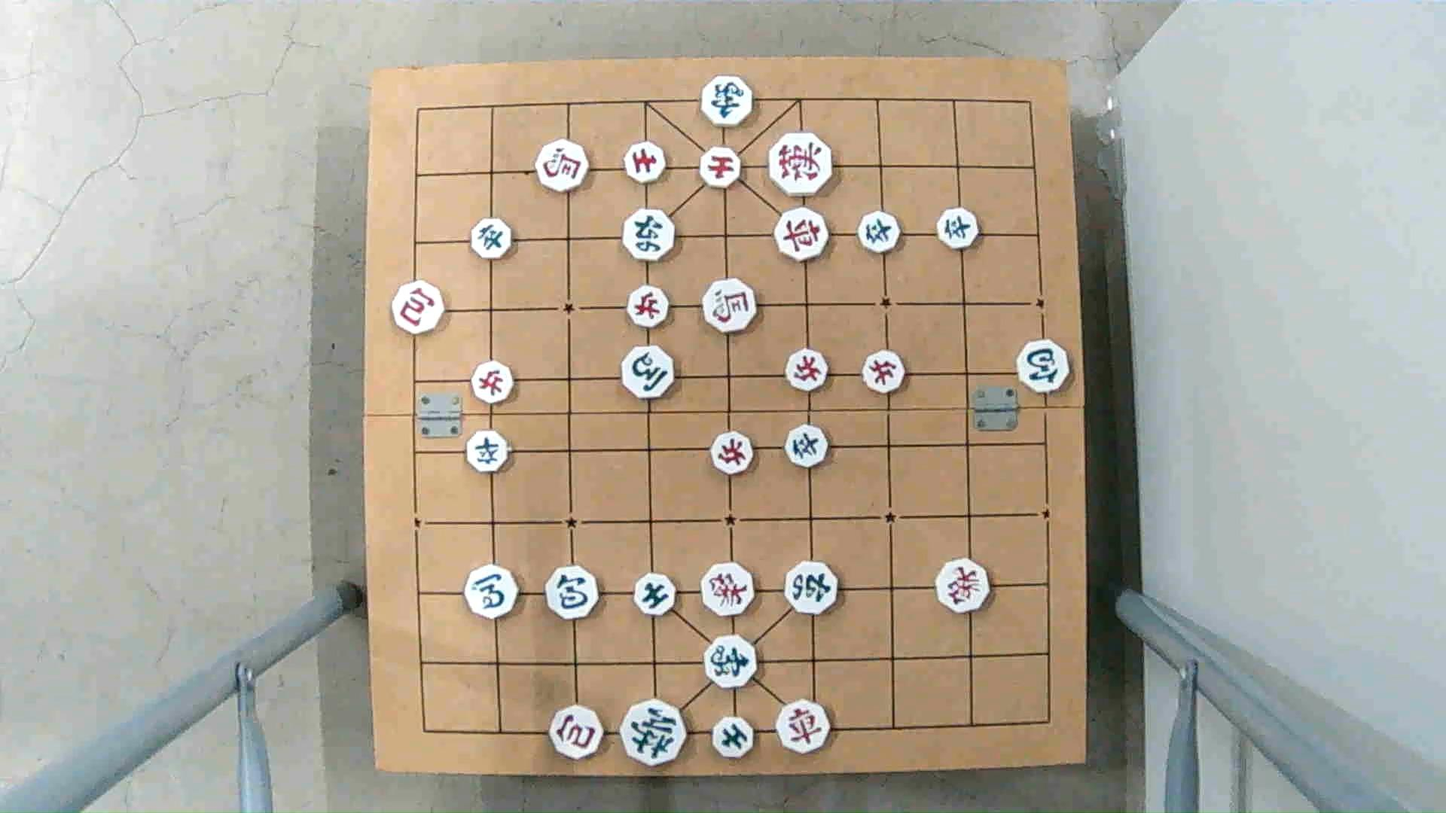cha_green: (620, 211, 677, 257), (787, 562, 837, 611)
cha_red: (774, 211, 831, 260), (776, 702, 831, 751)
jol_green: (935, 207, 981, 250), (465, 432, 512, 471), (783, 427, 828, 467), (469, 219, 515, 257), (857, 212, 899, 253)
jol_red: (861, 353, 908, 393), (707, 432, 755, 471), (625, 287, 671, 326), (471, 365, 517, 404), (785, 352, 831, 390)
ma_green: (462, 567, 519, 617), (620, 347, 676, 397)
ma_red: (534, 141, 590, 190), (703, 283, 759, 332)
po_green: (543, 569, 599, 618), (1018, 342, 1070, 391)
po_red: (548, 707, 606, 757), (389, 285, 445, 333)
sa_green: (709, 719, 758, 758), (631, 574, 679, 613)
sa_red: (697, 148, 743, 186), (623, 144, 667, 181)
sang_green: (704, 636, 760, 684), (703, 75, 752, 124)
sang_red: (934, 562, 990, 611), (702, 567, 755, 615)
wang_green: (621, 702, 687, 763)
wang_red: (771, 135, 829, 192)
